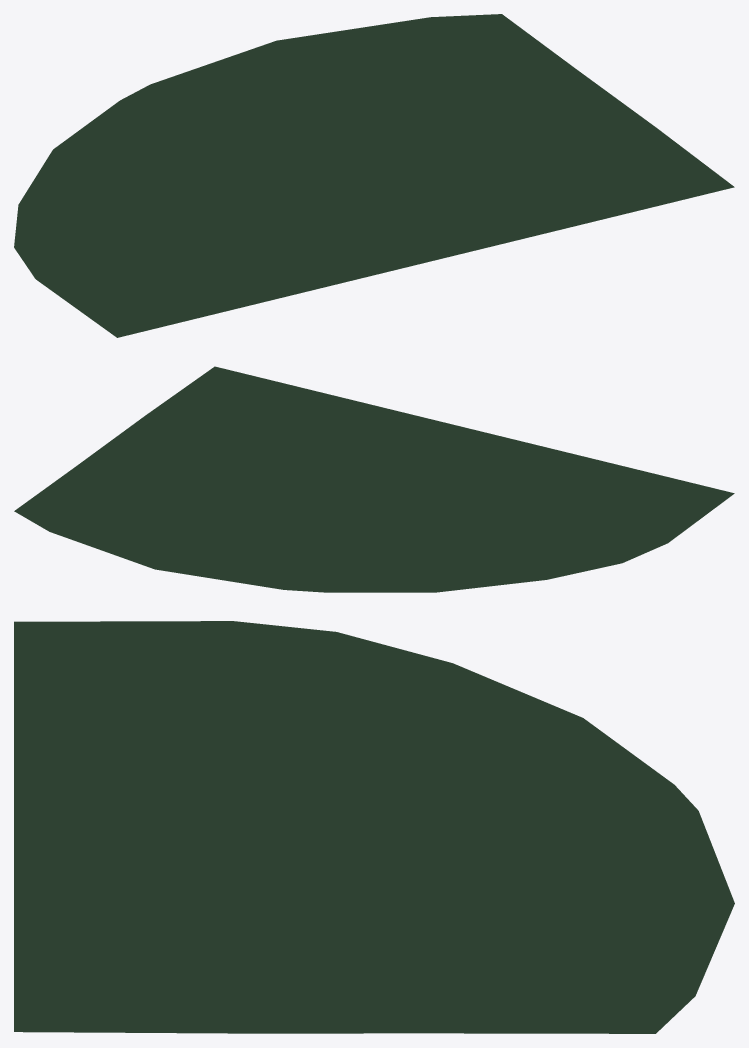
File: GS_Int_Roof_Curve.fbx
3 renders of one model, top to bottom at view 1: azimuth 30°, elevation 25°; view 2: azimuth 150°, elevation 25°; view 3: azimuth 270°, elevation 25°, orthographic. The views are drawn at different scales.
Visible parts, largest first — view 1: GS_Int_Roof_Curve; view 2: GS_Int_Roof_Curve; view 3: GS_Int_Roof_Curve.
Part boxes in pixels (box(x1,y1,x2,y2)): GS_Int_Roof_Curve: box(14, 14, 734, 337); GS_Int_Roof_Curve: box(14, 366, 734, 592); GS_Int_Roof_Curve: box(14, 621, 734, 1033).
Bounding box in the file's own units: 809 × 9.73e-05 × 597.
